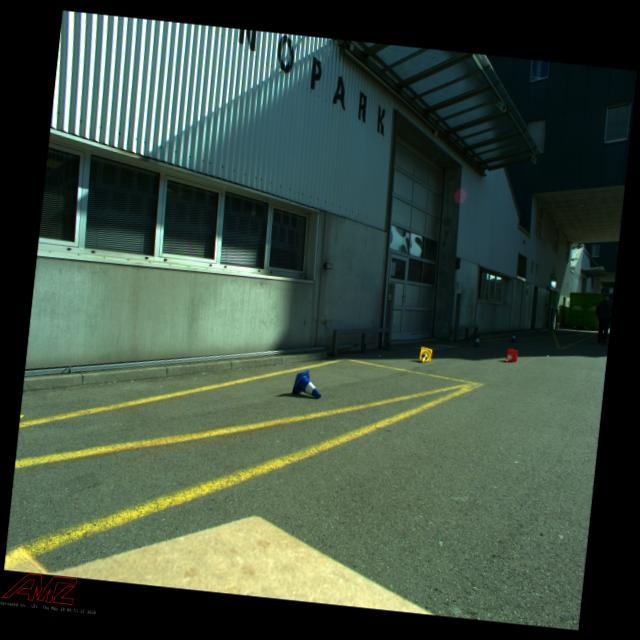blue_cone: (292, 368, 324, 399), (472, 334, 482, 347), (510, 332, 518, 343)
orange_cone: (505, 348, 518, 363)
yellow_cone: (418, 346, 432, 363)
